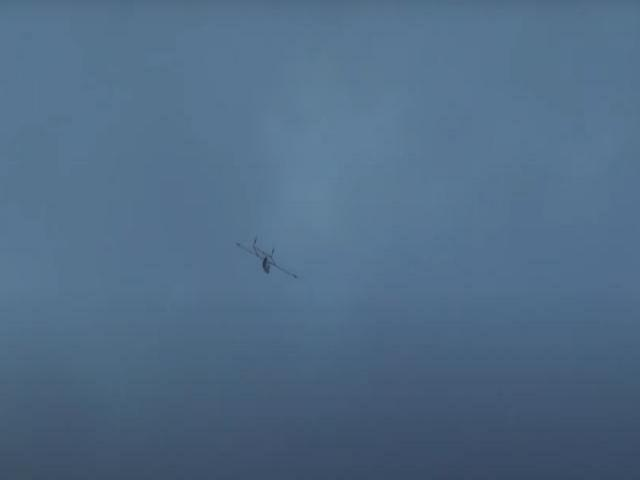iha: (234, 230, 300, 280)
